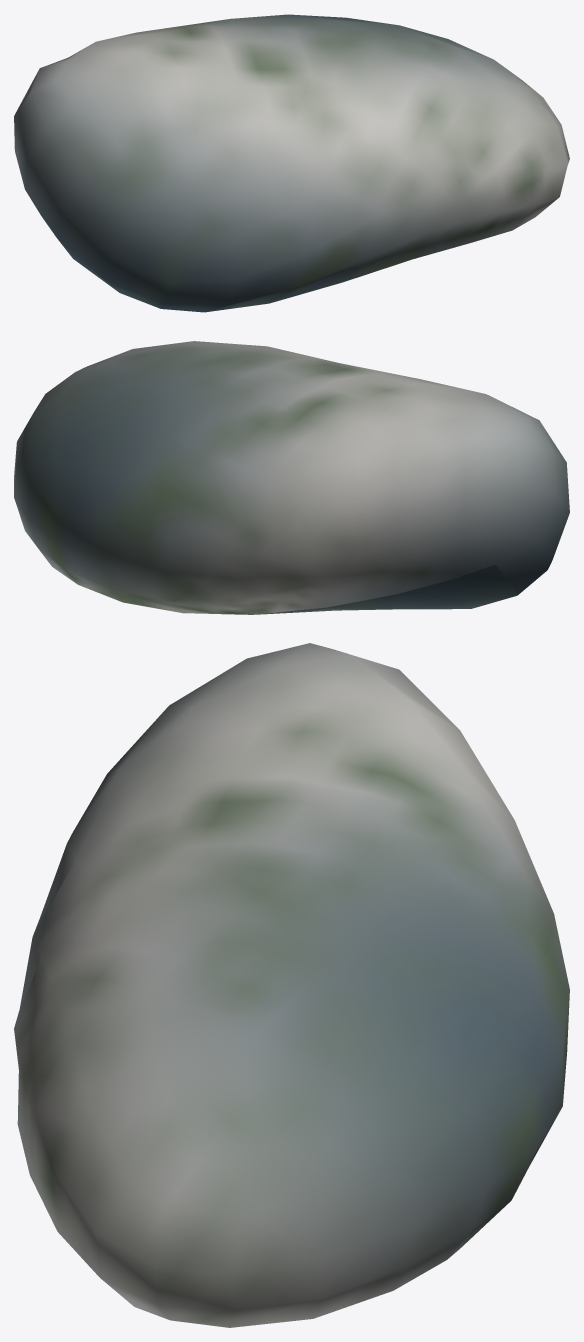
File: Sea rock1.fbx
3 renders of one model, top to bottom at view 1: azimuth 30°, elevation 25°; view 2: azimuth 150°, elevation 25°; view 3: azimuth 270°, elevation 25°, orthographic. The views are drawn at different scales.
Parts seen in each view (by area): view 1: OceanRock.002; view 2: OceanRock.002; view 3: OceanRock.002.
Boxes of the visible parts, x1,y1,x2,y2 form: OceanRock.002: (14, 14, 569, 312); OceanRock.002: (14, 341, 569, 614); OceanRock.002: (14, 643, 569, 1327).
Size of the model in its own units: 187 by 82.33 by 110.
